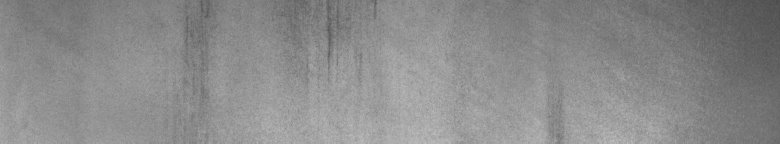ka: (280, 4, 377, 68)
